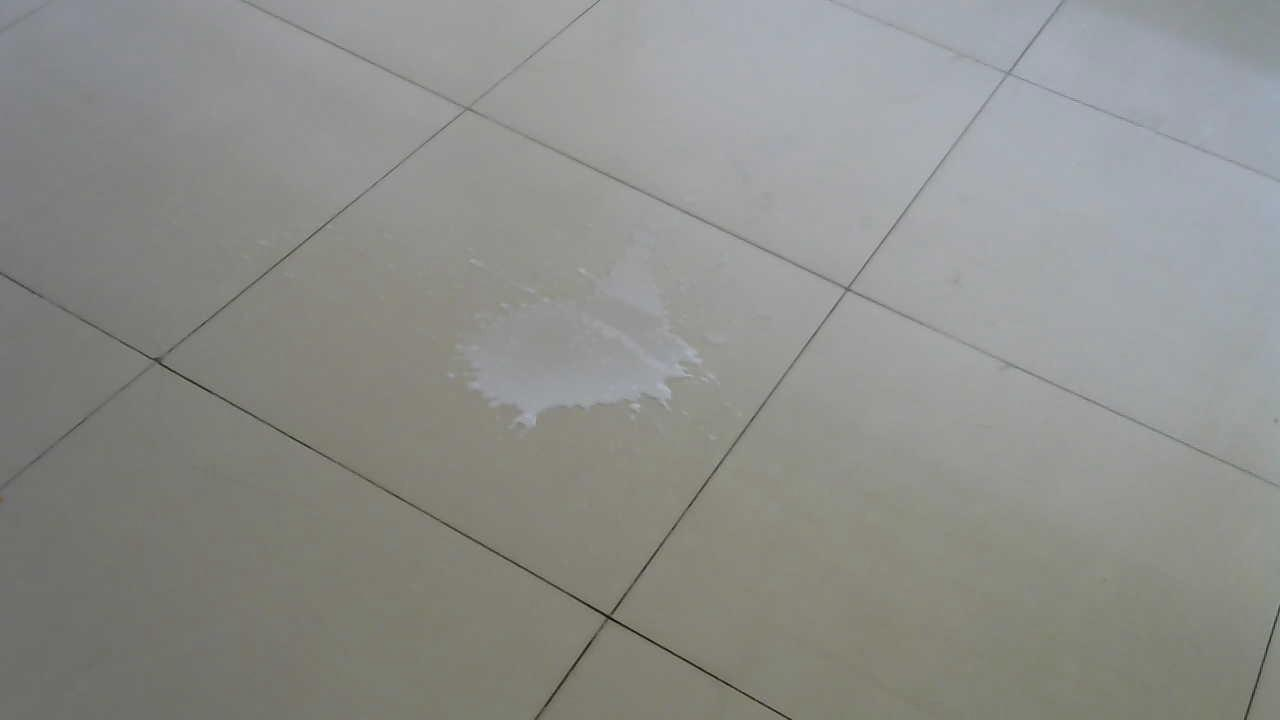dirty_floor: (433, 212, 728, 438)
